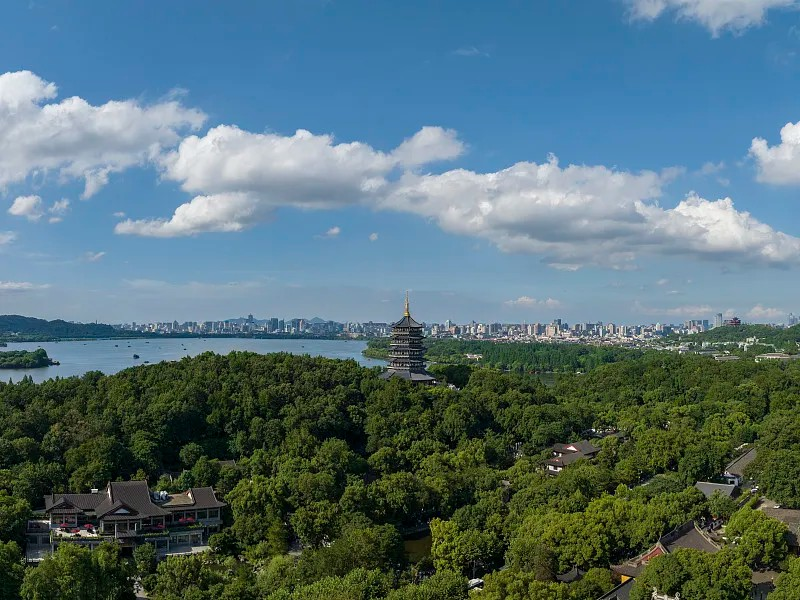Leifeng: (384, 290, 435, 392)
